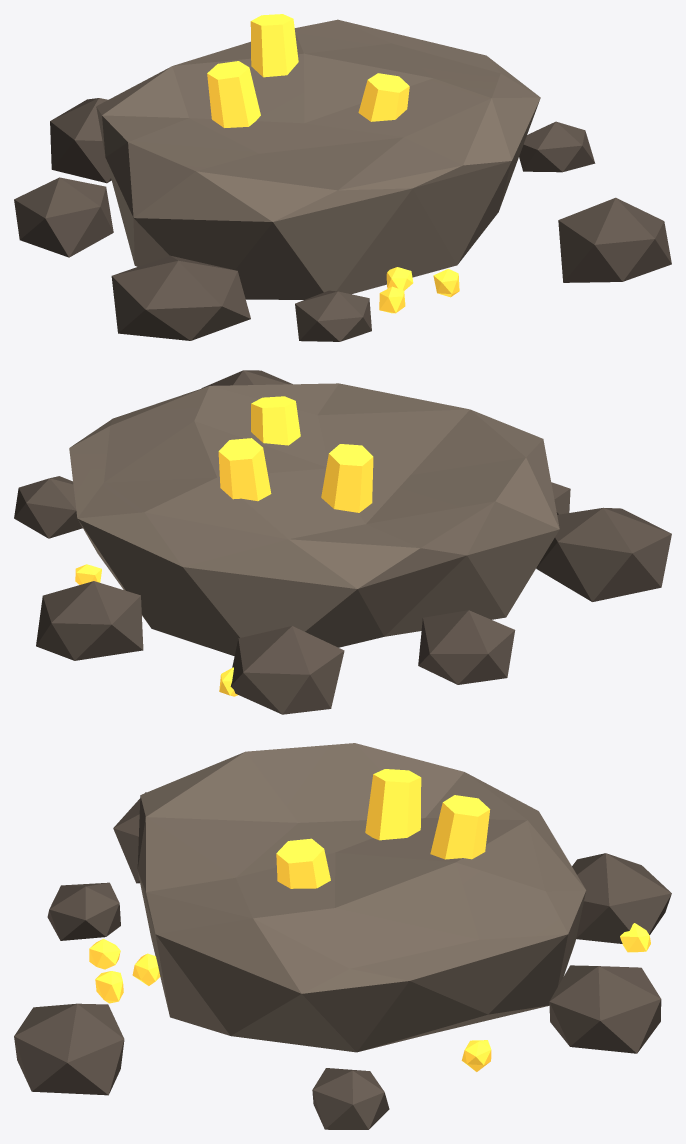
Rendered from mining-rock-broken.glb.
3 renders of one model, top to bottom at view 1: azimuth 30°, elevation 25°; view 2: azimuth 150°, elevation 25°; view 3: azimuth 270°, elevation 25°, orthographic. The views are drawn at different scales.
Parts seen in each view (by area): view 1: MiningRockBroken_Rock, MiningRockBroken_RockDark, MiningRockBroken_Gold; view 2: MiningRockBroken_Rock, MiningRockBroken_RockDark, MiningRockBroken_Gold; view 3: MiningRockBroken_Rock, MiningRockBroken_RockDark, MiningRockBroken_Gold.
Boxes of the visible parts, x1,y1,x2,y2 form: MiningRockBroken_Rock: (96, 19, 540, 299); MiningRockBroken_RockDark: (14, 98, 671, 341); MiningRockBroken_Gold: (207, 14, 459, 313); MiningRockBroken_Rock: (69, 383, 559, 656); MiningRockBroken_RockDark: (14, 370, 671, 714); MiningRockBroken_Gold: (75, 396, 373, 696); MiningRockBroken_Rock: (137, 743, 586, 1052); MiningRockBroken_RockDark: (14, 792, 671, 1129); MiningRockBroken_Gold: (89, 769, 650, 1071).
Bounding box in the file's own units: 5.83 × 1.76 × 5.46.
